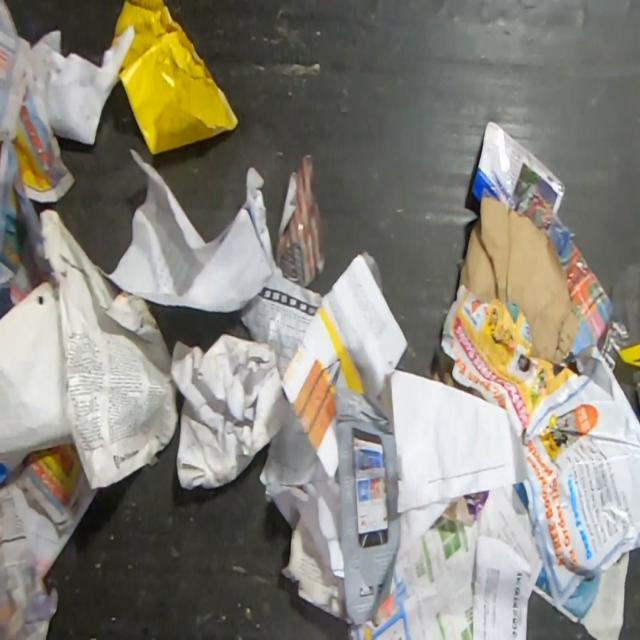cardboard: (457, 194, 581, 369), (431, 349, 482, 398)
